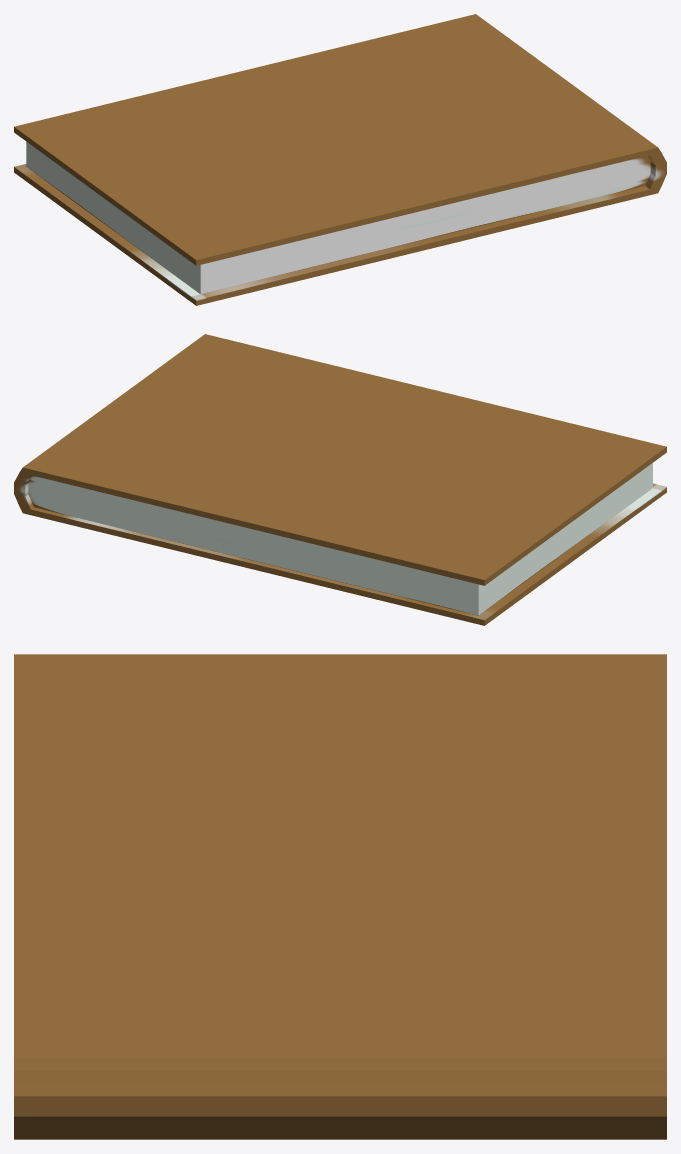
The model's file is Quaderno.glb.
3 views of the same model, one above another, from view 1: azimuth 30°, elevation 25°; view 2: azimuth 150°, elevation 25°; view 3: azimuth 270°, elevation 25° (orthographic). The views are drawn at different scales.
Parts seen in each view (by area): view 1: Cube; view 2: Cube; view 3: Cube.
Part boxes in pixels (x1,y1,x2,y2): Cube: (14, 14, 666, 305); Cube: (14, 334, 666, 625); Cube: (14, 654, 666, 1139).
Size of the model in its own units: 3.3 by 0.3064 by 2.21.
Materials: 1 (1 with a texture image).
